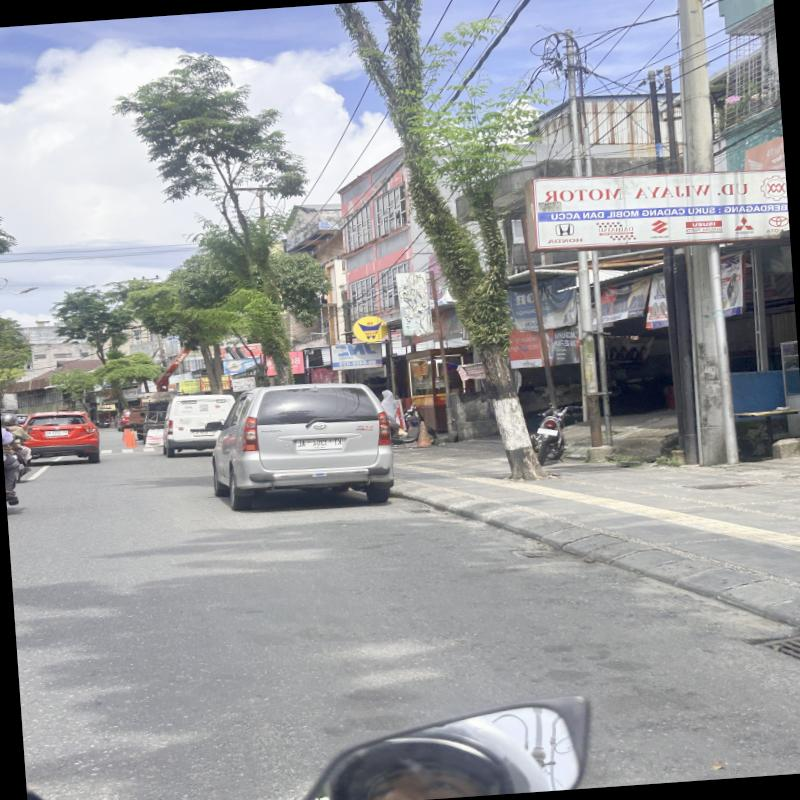license plate on a car: (296, 438, 342, 450), (45, 429, 68, 436), (193, 430, 214, 436)
